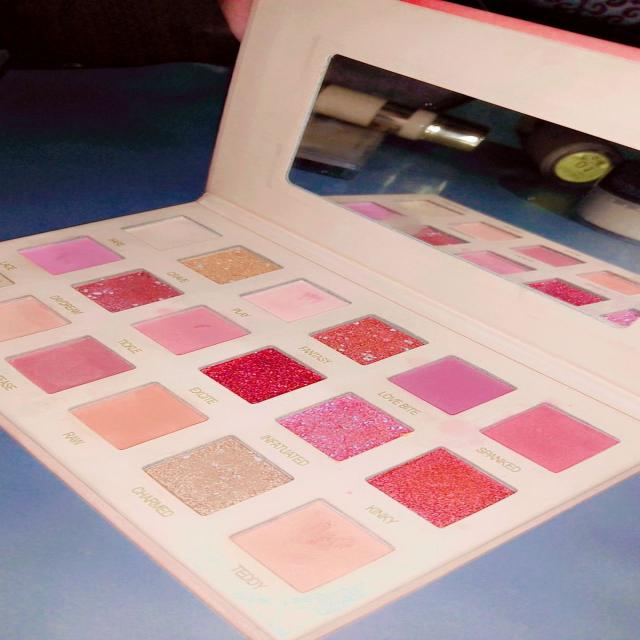blush: (0, 206, 640, 640)
